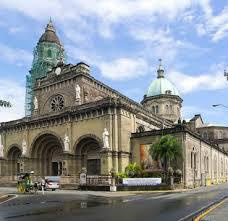manila_cathedral_church_intramuros_manila: (3, 14, 179, 190)
